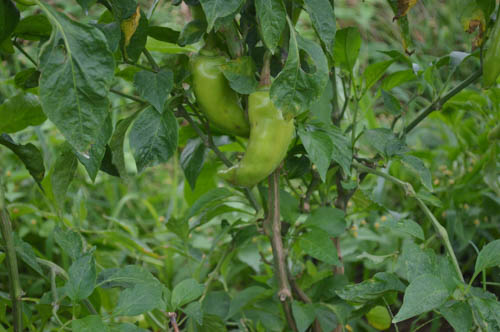ChiliPepper: (215, 94, 300, 188), (193, 55, 249, 137)
